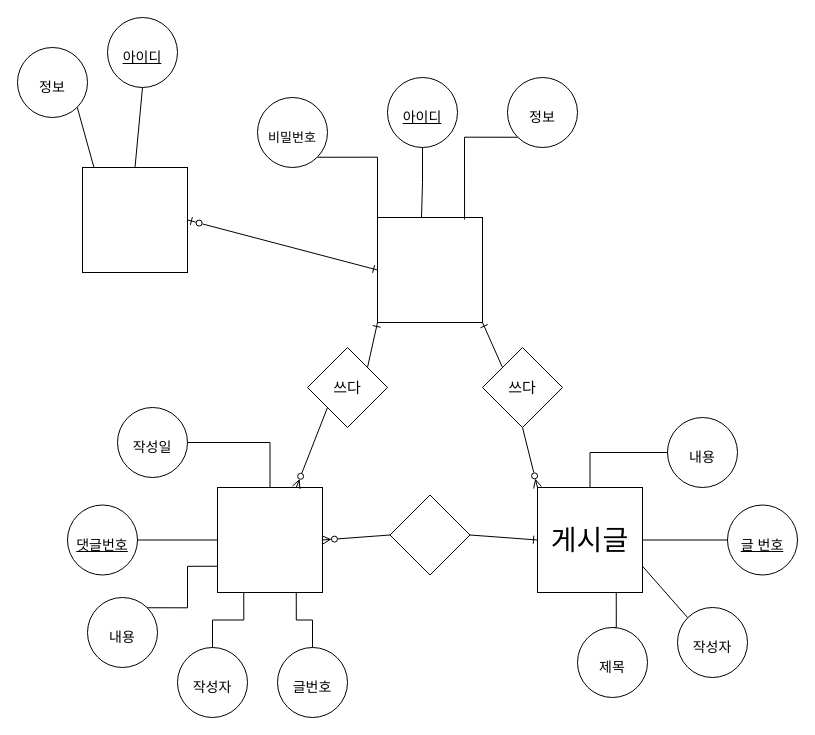
Image size: 815x735. Some labels were removed from this diagram. The shapes that lost their labels are listed below. From the top down, each one's centre as x and y in pixels, then its label:
At pixel 135 219: "관리자".
At pixel 429 269: "회원".
At pixel 269 539: "댓글".
At pixel 429 534: "포함".
